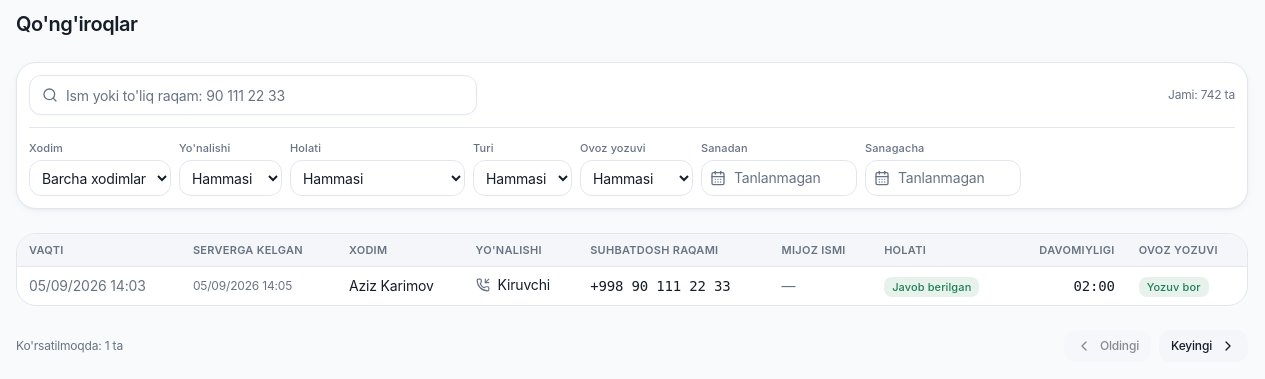
Test: the total › stays on screen on page two, and is replaced when a filter changes
Check: the text "Jami: 742 ta" is shown, box [1168,87,1235,103]
Click the button "Keyingi" at (1204,346), box [1159,330,1248,362]
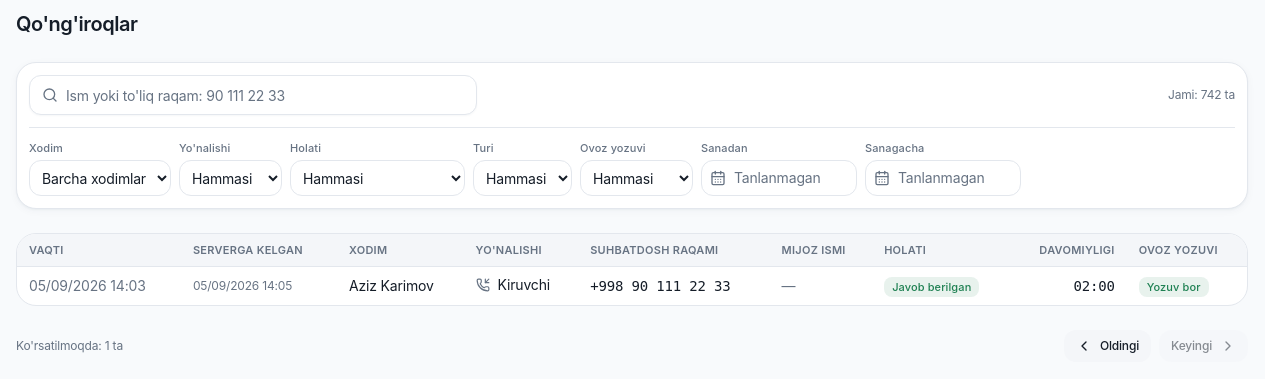
Check: the text "Jami: 742 ta" is shown, box [1168,87,1235,103]
Select "Kiruvchi" in the dropdown labelled "Yo'nalishi" at (230,178), box [179,160,282,196]
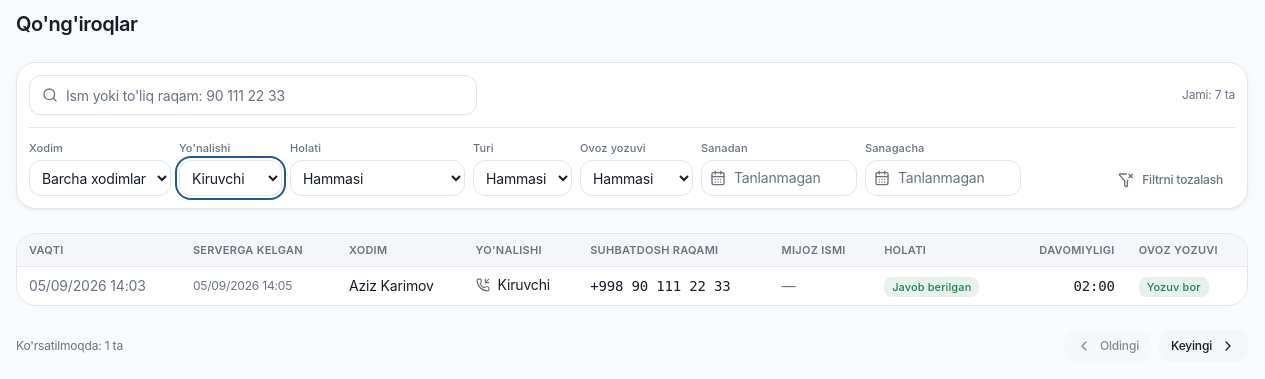
Check: the text "Jami: 742 ta" is gone
